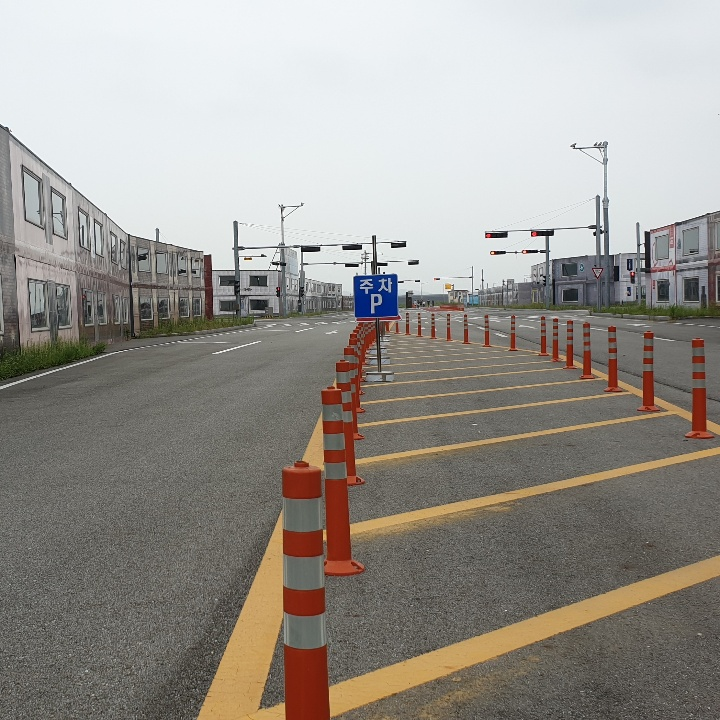parking: (368, 289, 388, 315)
